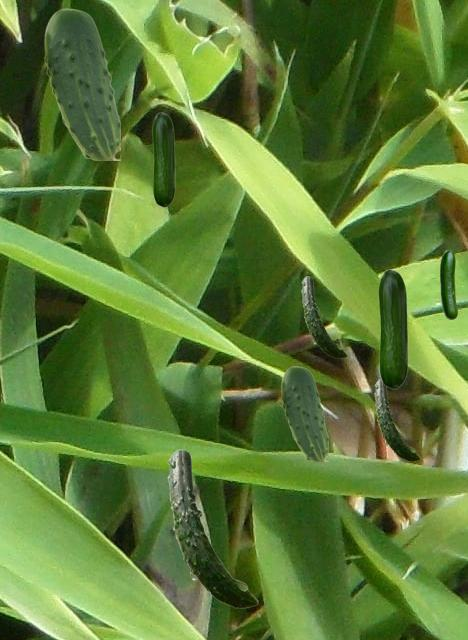cucumber: (167, 449, 257, 607), (44, 8, 119, 159), (281, 366, 327, 460), (301, 276, 346, 357), (374, 379, 419, 460), (378, 269, 407, 388), (152, 112, 174, 206), (440, 250, 456, 318)
